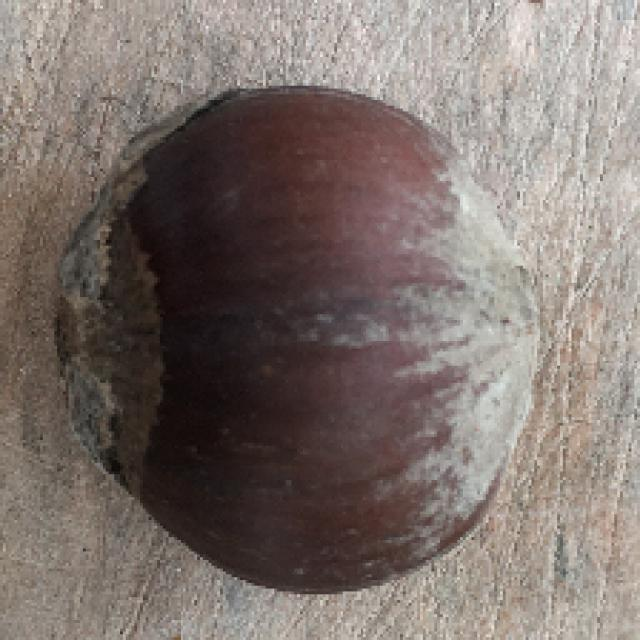damagedHazelnut: (49, 54, 544, 606)
